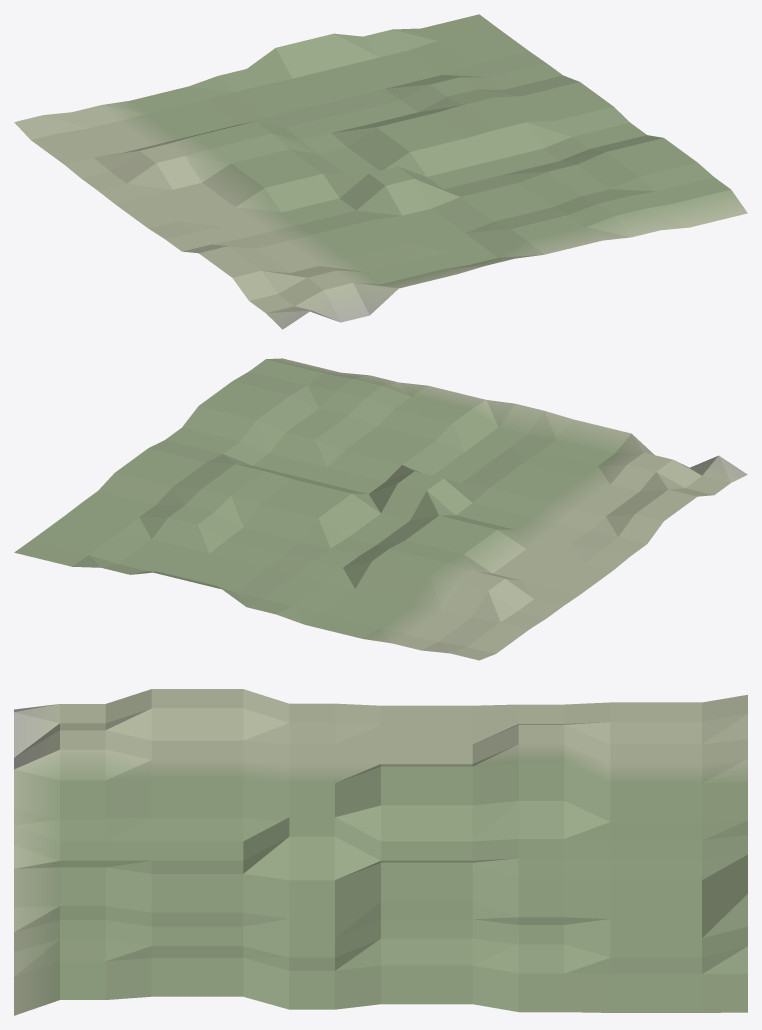
The picture shows the model from 3 angles, top to bottom: view 1: azimuth 30°, elevation 25°; view 2: azimuth 150°, elevation 25°; view 3: azimuth 270°, elevation 25°; orthographic projection. The views are drawn at different scales.
Bounding box in the file's own units: 32 × 1.87 × 32.
